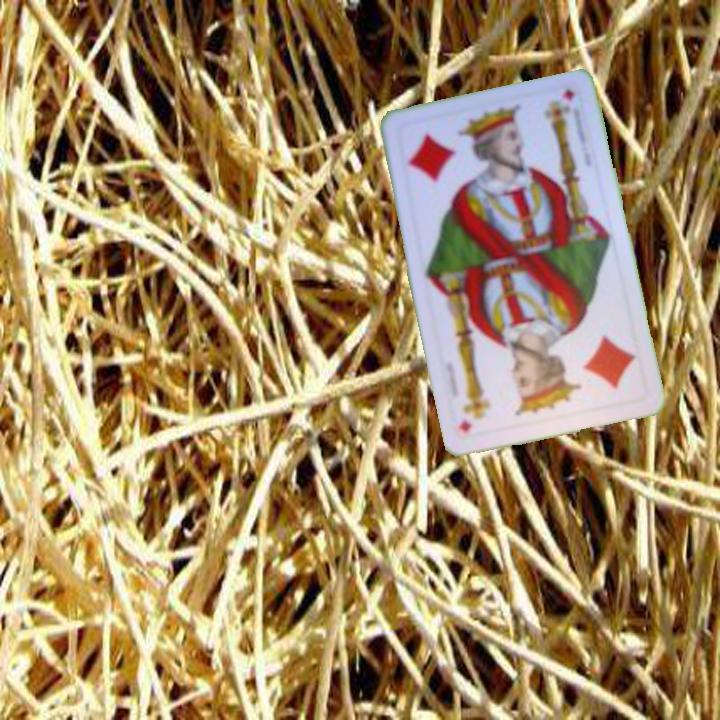d_k.png: (534, 316, 649, 421), (392, 106, 506, 210)
